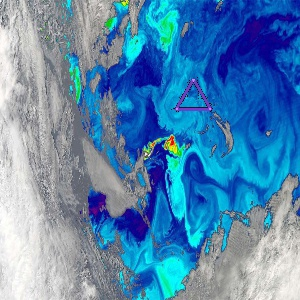triangle: (171, 76, 215, 114)
